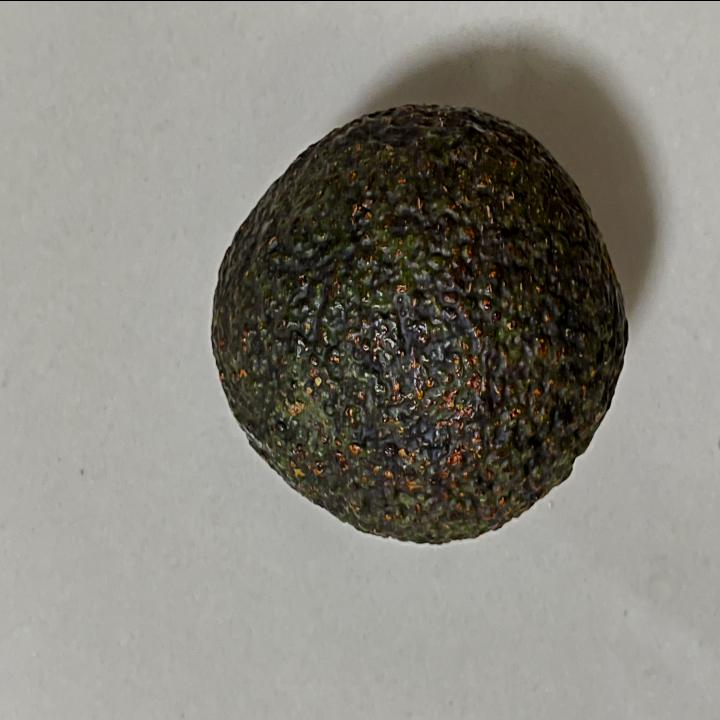Level1: (195, 85, 646, 556)
